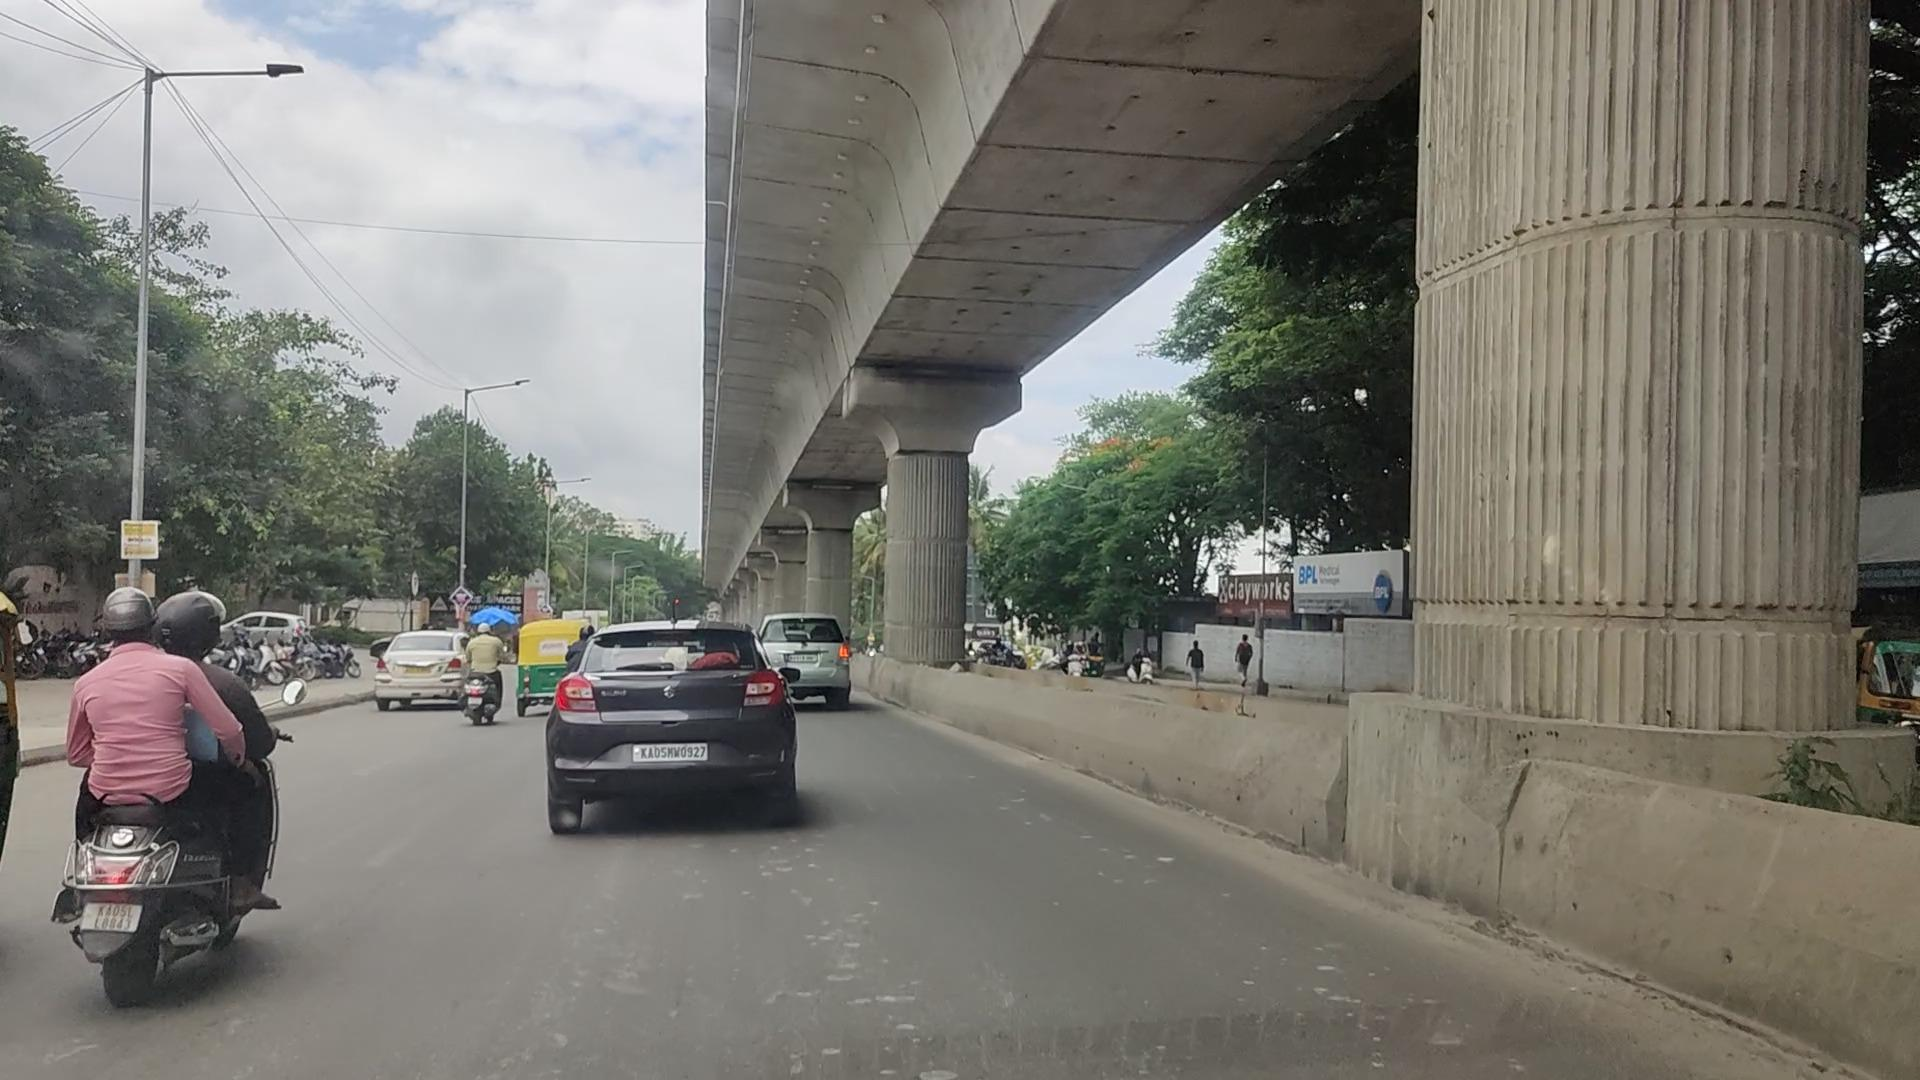LMV: (40, 580, 255, 1017), (551, 617, 812, 847), (460, 613, 505, 717)
